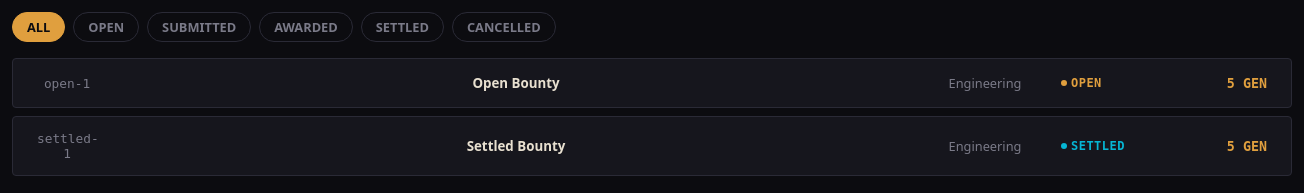
Scenario: BountyBoard › filters bounties when a status filter button is clicked
The width and height of the screenshot is (1304, 193).
Expected: the text "Open Bounty" is shown, [472,74,560,92]
Expected: the text "Settled Bounty" is shown, [467,137,565,155]
Click the SETTLED filter
Click the button "SETTLED": (402, 27) [361,12,444,42]
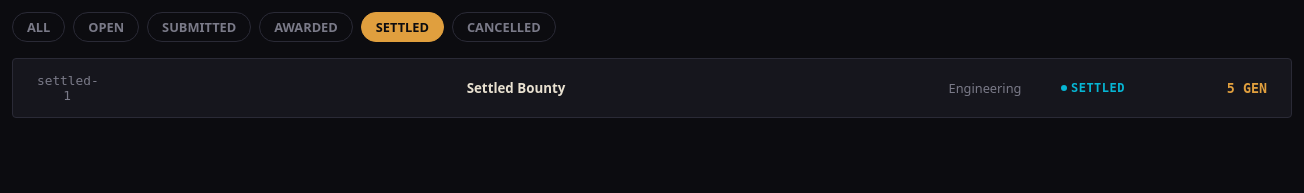
Expected: the text "Settled Bounty" is shown, [467,79,565,97]
Now the button "Open Bounty" is gone
